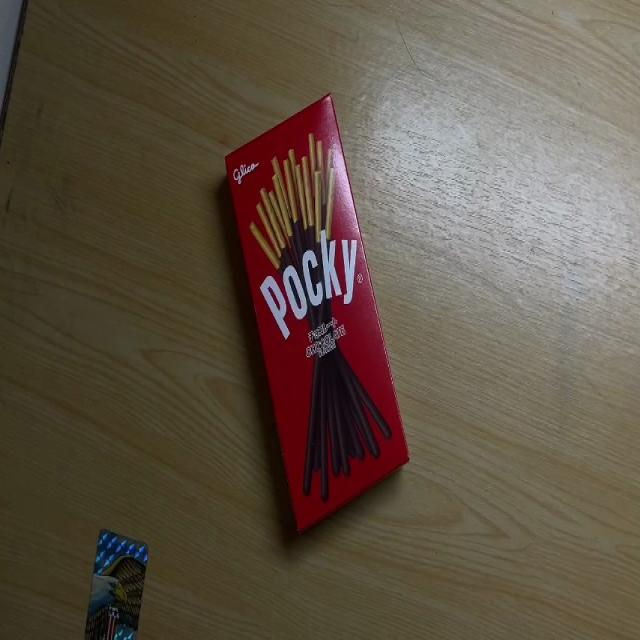Pocky: (222, 94, 412, 538)
